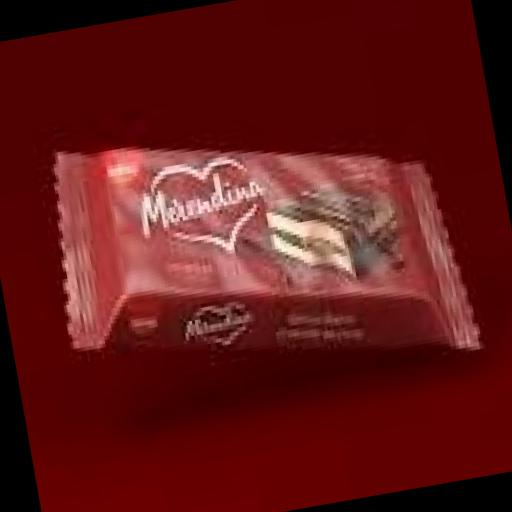merendina: (30, 59, 492, 453)
